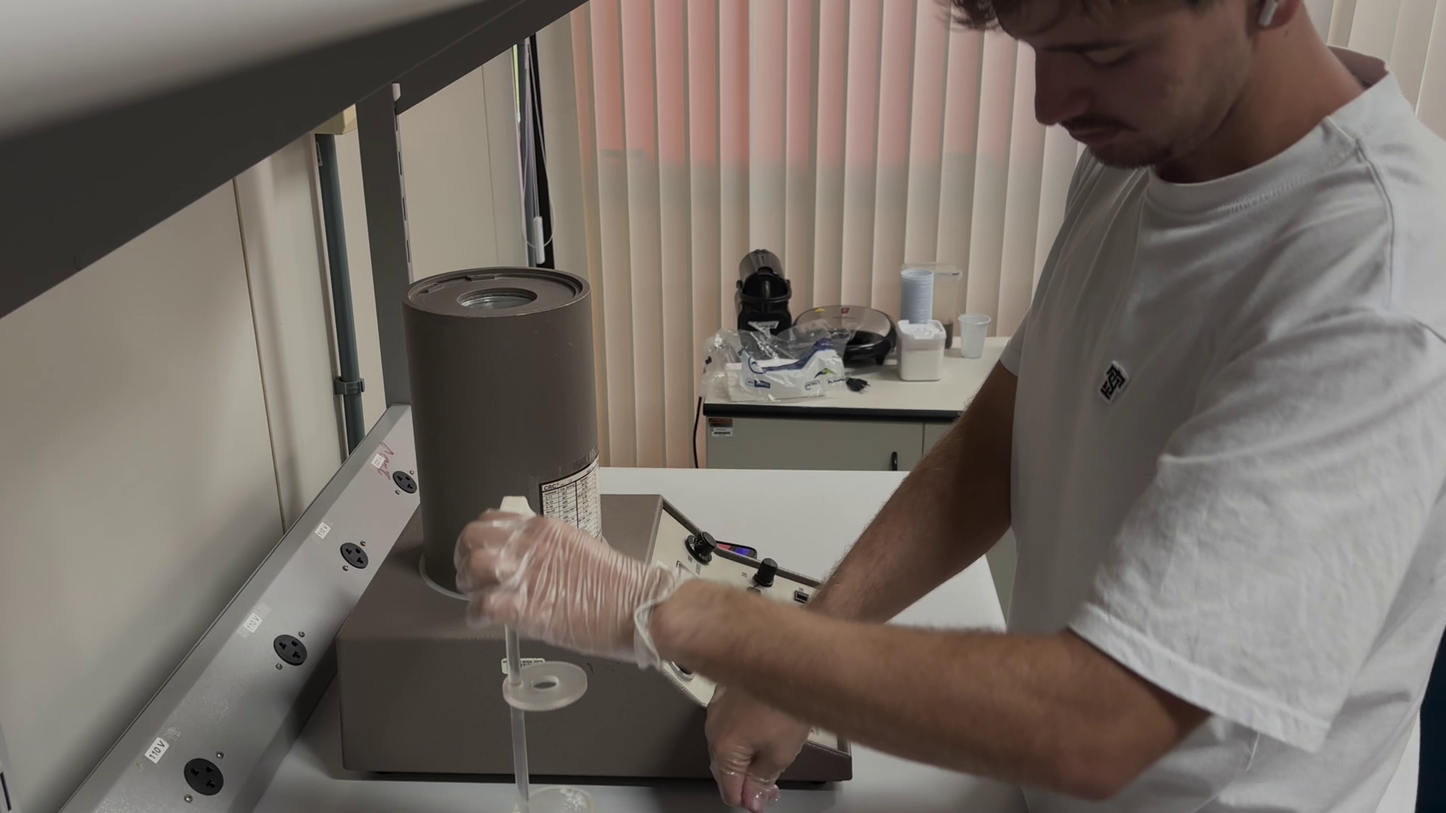Ativimetro: (399, 247, 610, 586)
Cesta: (495, 492, 597, 813)
Com_Luva: (453, 507, 699, 668), (706, 683, 813, 813)
